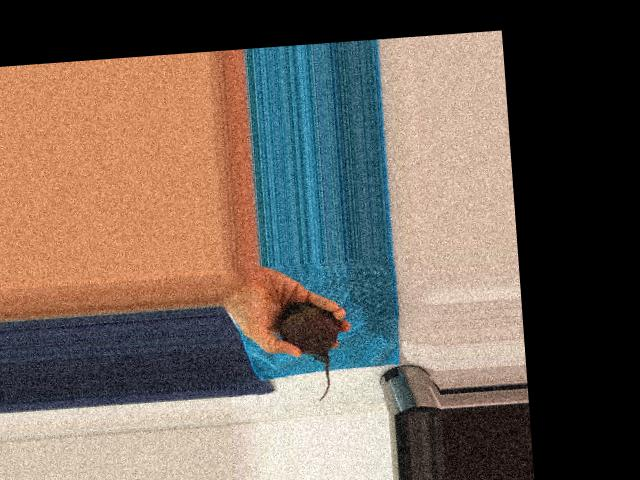beet: (278, 298, 345, 402)
